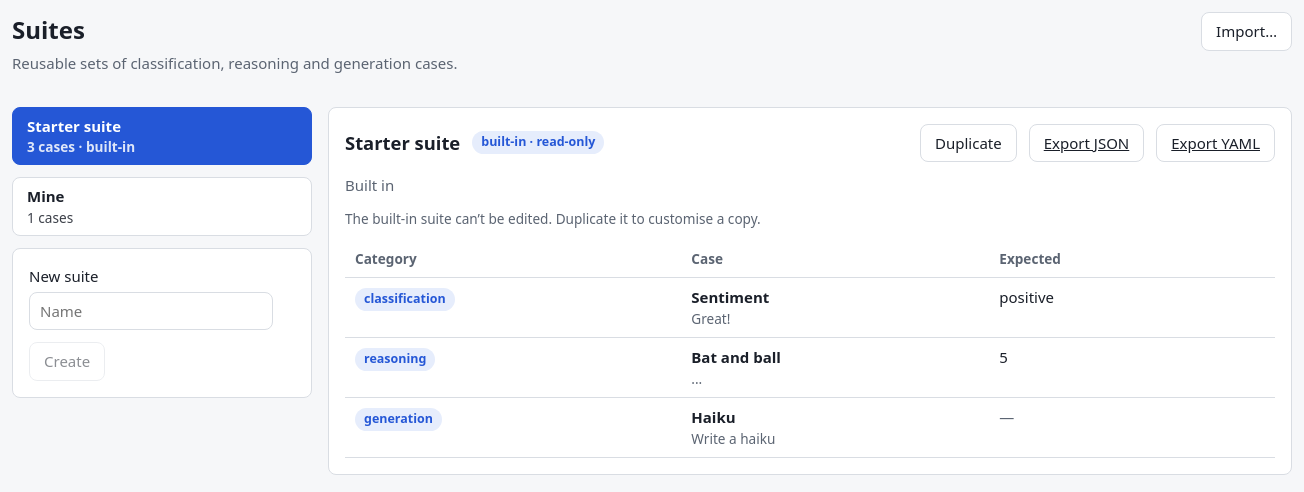
Test: 9.9 suites page › creates a suite and selects it
Expected: the element named "Suite Starter suite" is shown, [328,106,1292,475]
Type "Fresh" into the field labelled "New suite" at (151, 311), box [29,292,273,330]
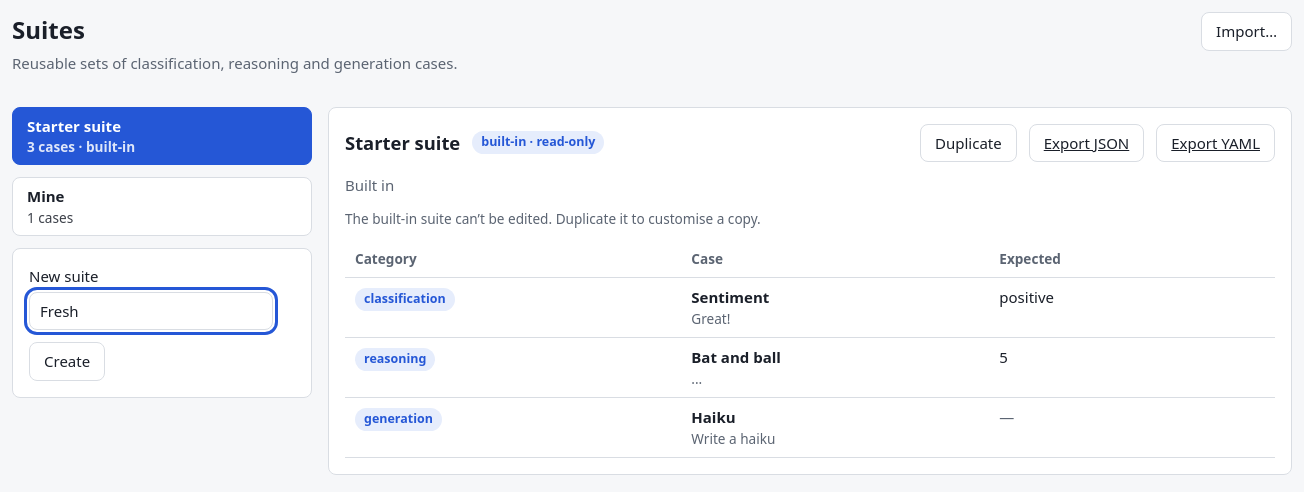
Click the button "Create" at (67, 362), box [29,342,105,381]
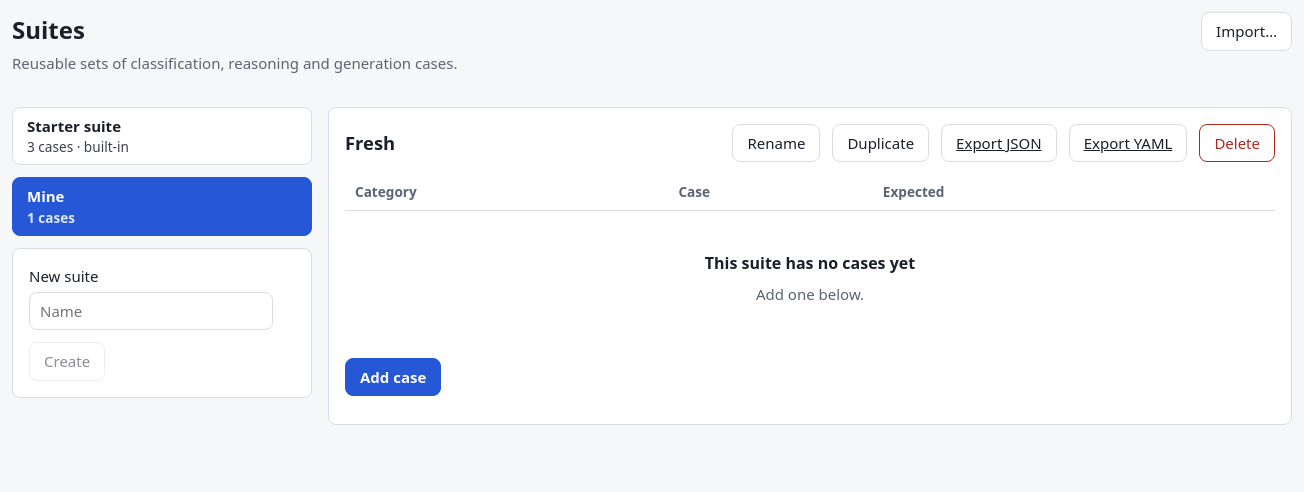
Expected: the heading "This suite has no cases yet" is shown, [705,252,915,274]
